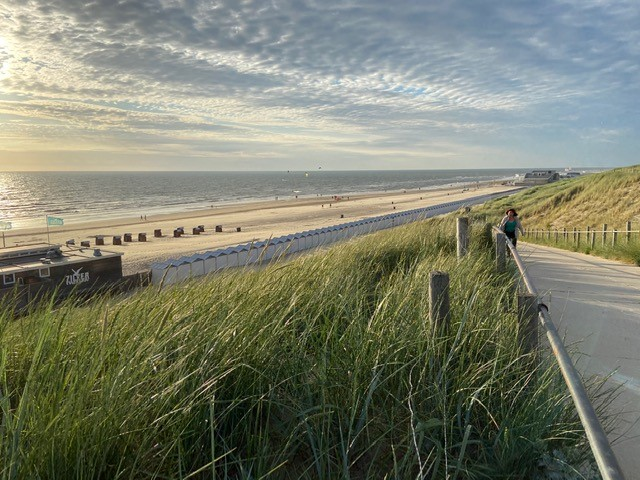pad: (481, 221, 640, 476)
